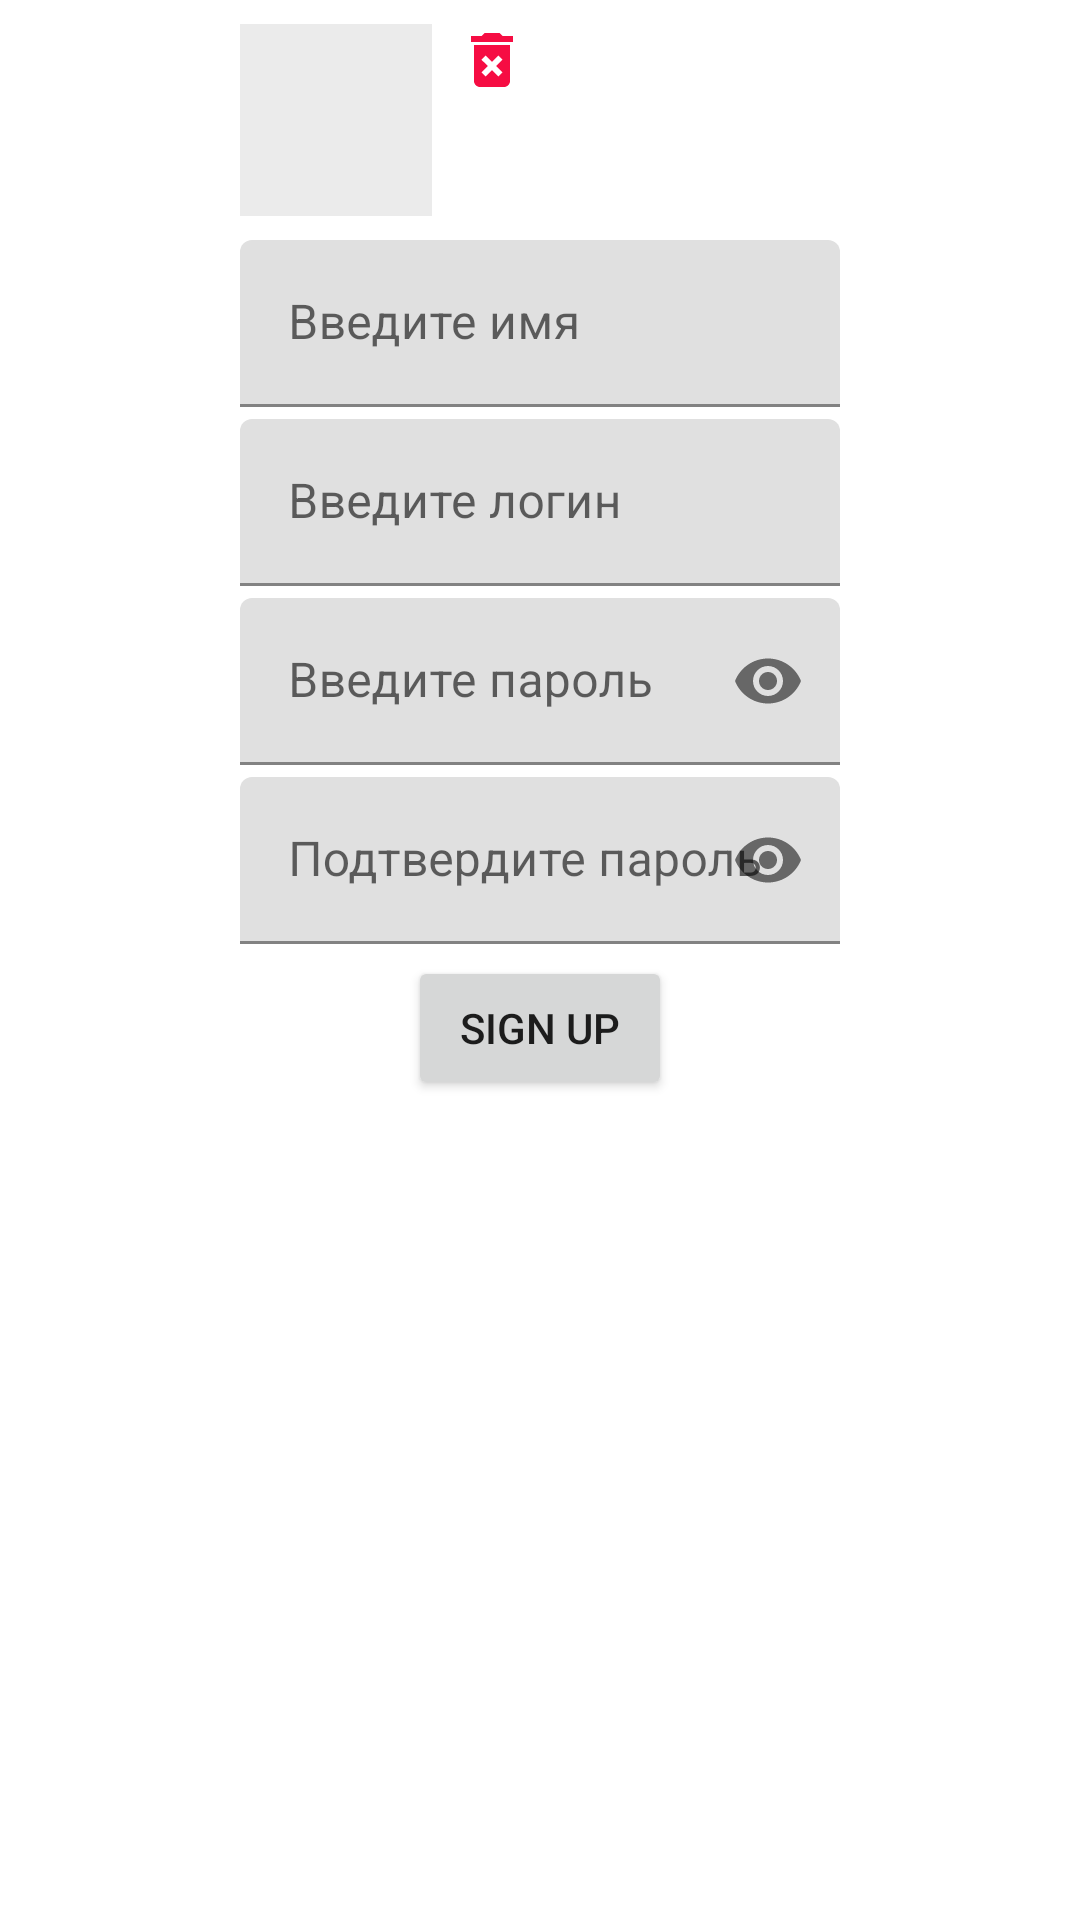

Named icons in this screenshot (1080w x 1920h) and their bounding boxes, (x1, y1, x2, y2):
delete: (471, 33, 513, 87)
